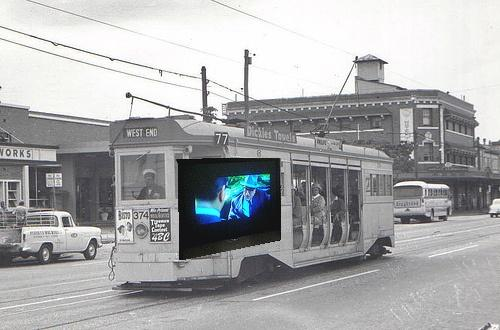tampered: (177, 159, 281, 260)
